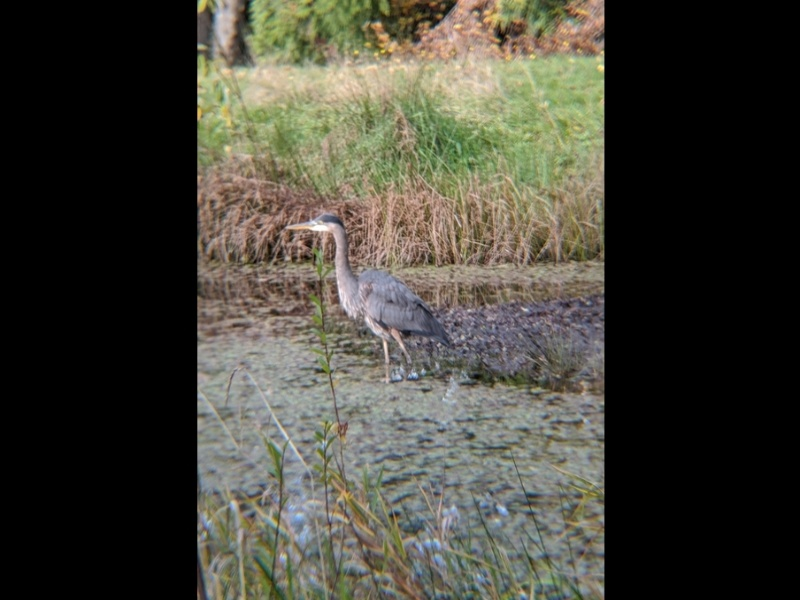heron: (283, 211, 456, 378)
